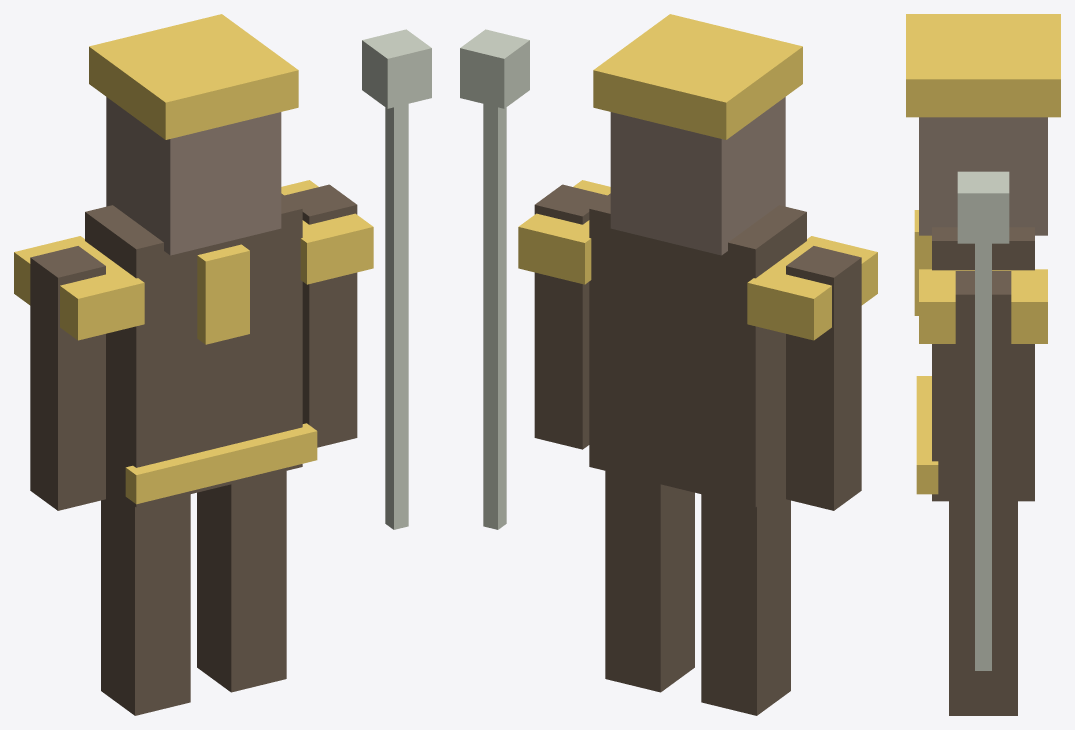
File: 03_nix_echohand_courier_near_freight.glb
The picture shows the model from 3 angles, left to right: view 1: azimuth 30°, elevation 25°; view 2: azimuth 150°, elevation 25°; view 3: azimuth 270°, elevation 25°; orthographic projection.
Visible parts, largest first — view 1: Nix Echohand, Courier near Freight; view 2: Nix Echohand, Courier near Freight; view 3: Nix Echohand, Courier near Freight.
Boxes of the visible parts, x1=… form: Nix Echohand, Courier near Freight: x1=14, y1=14, x2=431, y2=715; Nix Echohand, Courier near Freight: x1=460, y1=14, x2=877, y2=715; Nix Echohand, Courier near Freight: x1=906, y1=14, x2=1060, y2=715.
Bounding box in the file's own units: 0.9537 × 1.52 × 0.3383.
